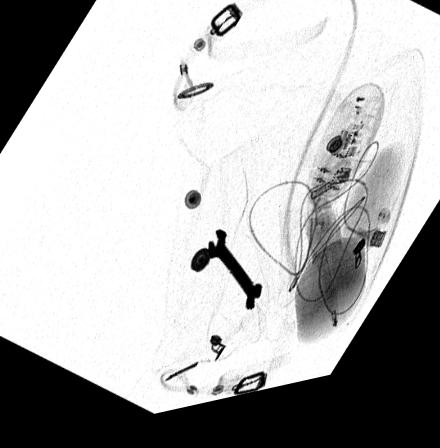Wrench: (205, 237, 261, 321)
